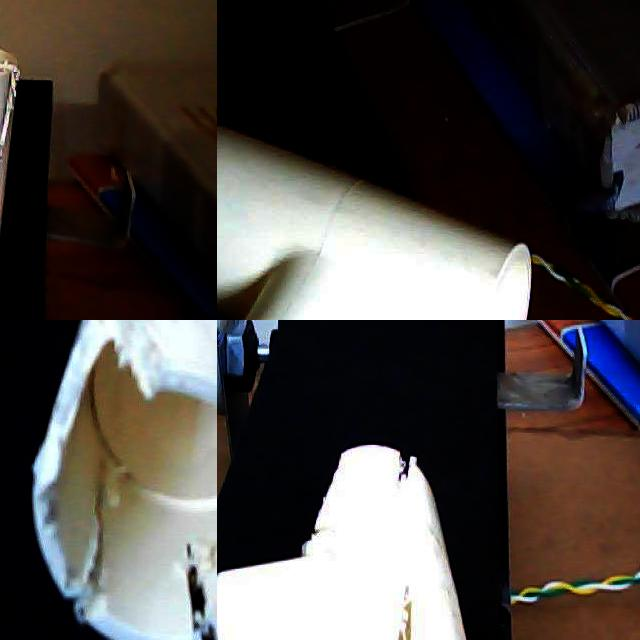Defective: (284, 423, 374, 583), (90, 342, 193, 475), (119, 320, 217, 411), (70, 459, 121, 608), (373, 430, 421, 517), (366, 586, 438, 640), (182, 543, 217, 640), (0, 54, 19, 200), (62, 390, 91, 485), (0, 74, 18, 192)
T Joint: (217, 125, 533, 320), (217, 438, 469, 640)
